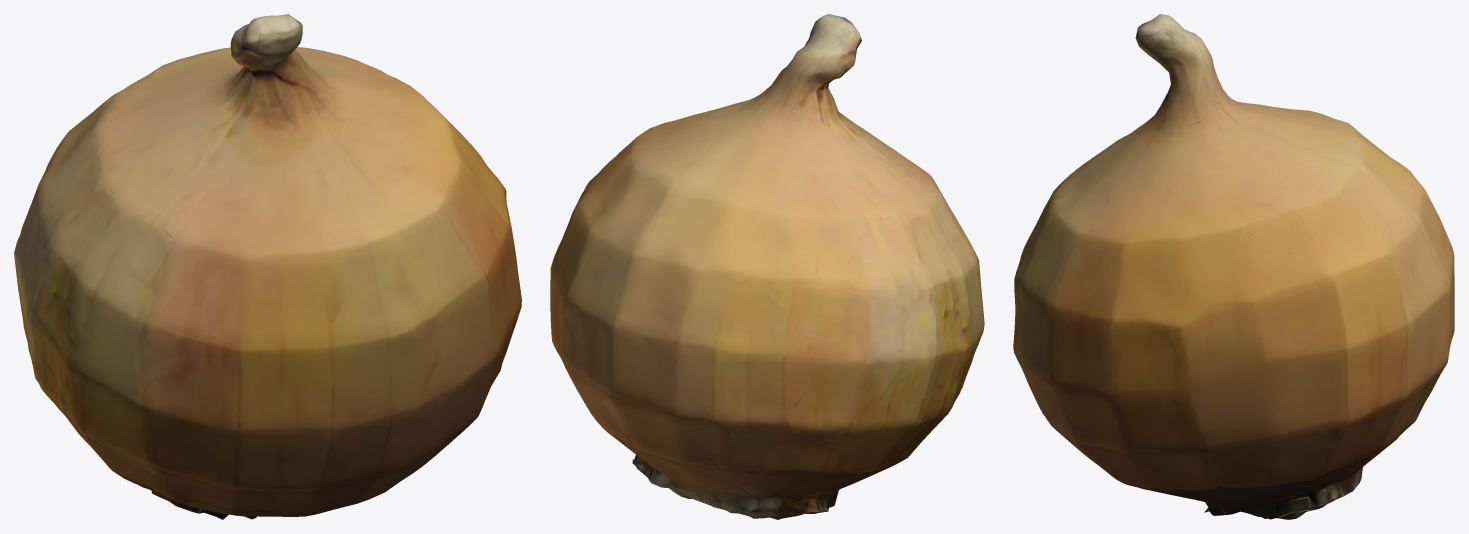
The model's file is onion_whole.glb.
3 views of the same model, side by side, from view 1: azimuth 30°, elevation 25°; view 2: azimuth 150°, elevation 25°; view 3: azimuth 270°, elevation 25° (orthographic). The views are drawn at different scales.
Parts seen in each view (by area): view 1: Onion; view 2: Onion; view 3: Onion.
Part boxes in pixels (x1,y1,x2,y2): Onion: (14,14,521,519); Onion: (550,14,984,519); Onion: (1013,14,1454,519).
Bounding box in the file's own units: 0.085 × 0.1 × 0.0853.
Materials: 1 (1 with a texture image).
